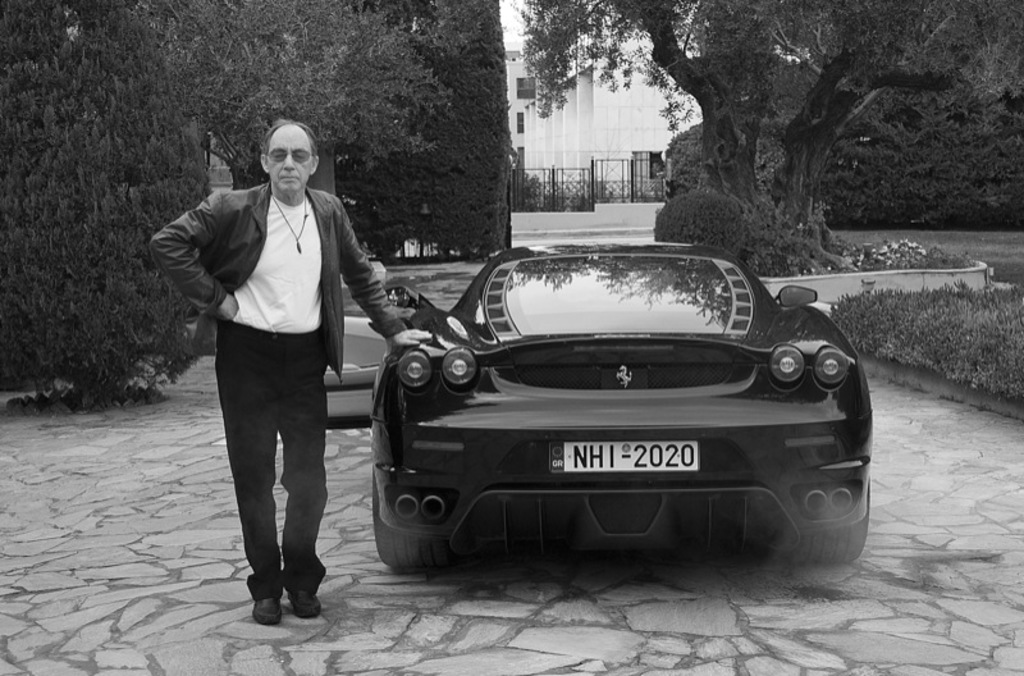Car: (352, 231, 870, 573)
